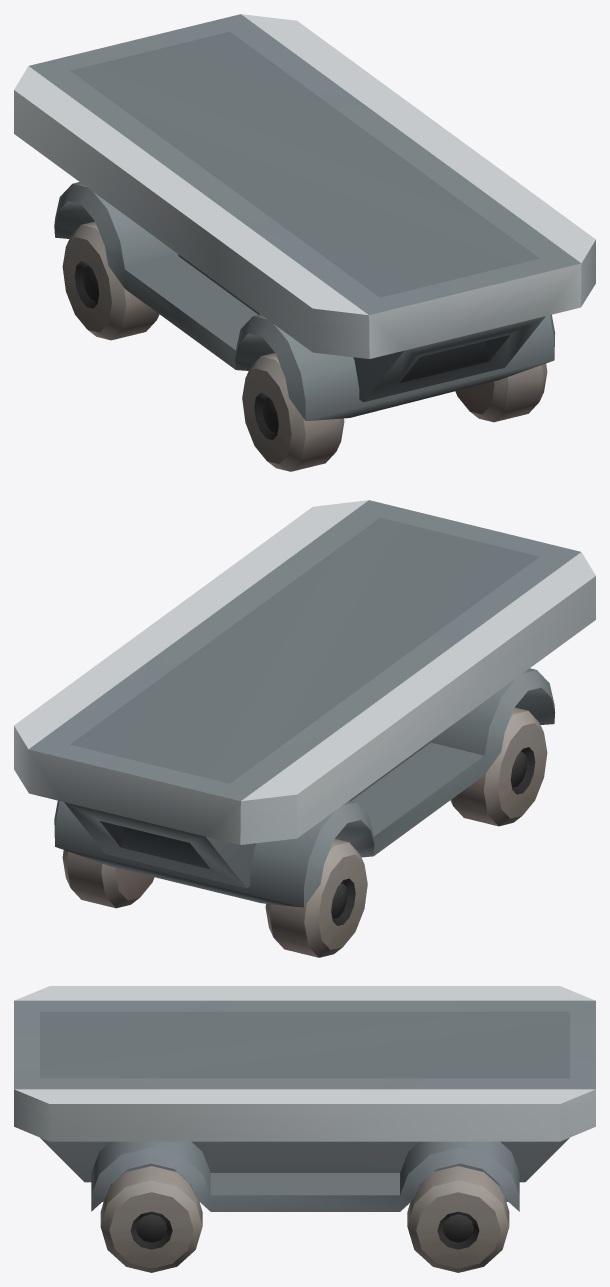
File: kay-reboque-espacial.gltf
The picture shows the model from 3 angles, top to bottom: view 1: azimuth 30°, elevation 25°; view 2: azimuth 150°, elevation 25°; view 3: azimuth 270°, elevation 25°; orthographic projection. The views are drawn at different scales.
Parts seen in each view (by area): view 1: spacetruck_trailer; view 2: spacetruck_trailer; view 3: spacetruck_trailer.
Boxes of the visible parts, bbox=[...] form: spacetruck_trailer: bbox=[14, 14, 595, 471]; spacetruck_trailer: bbox=[14, 500, 595, 957]; spacetruck_trailer: bbox=[14, 986, 595, 1272].
Size of the model in its own units: 1.25 by 0.8793 by 2.6.
1 material, 1 textured.
